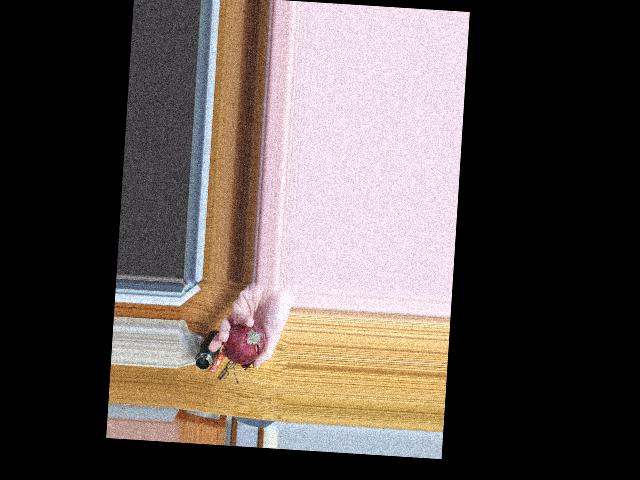onion: (223, 316, 267, 365)
